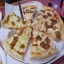pizza: (5, 7, 64, 58)
